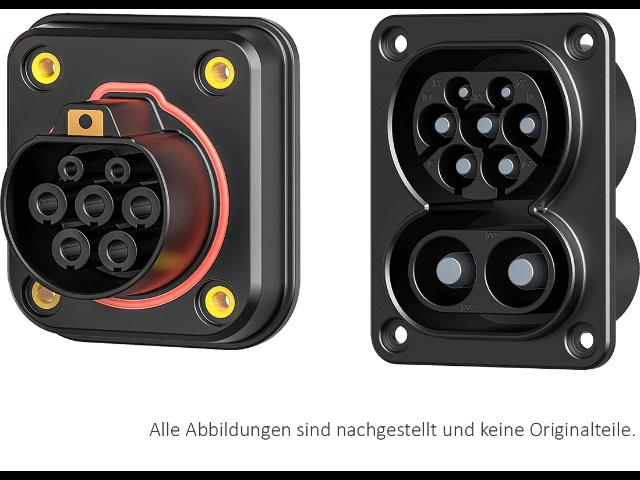inlet: (413, 71, 548, 200)
inlet-above-left: (444, 77, 473, 108)
inlet-above-right: (487, 76, 515, 108)
inlet-below-left: (438, 144, 478, 189)
inlet-below-right: (481, 144, 522, 189)
inlet-circle: (459, 103, 499, 149)
inlet-circle-left: (417, 103, 457, 147)
inlet-circle-right: (502, 103, 543, 149)
inlet-minus: (485, 237, 550, 309)
inlet-plus: (414, 236, 477, 307)
